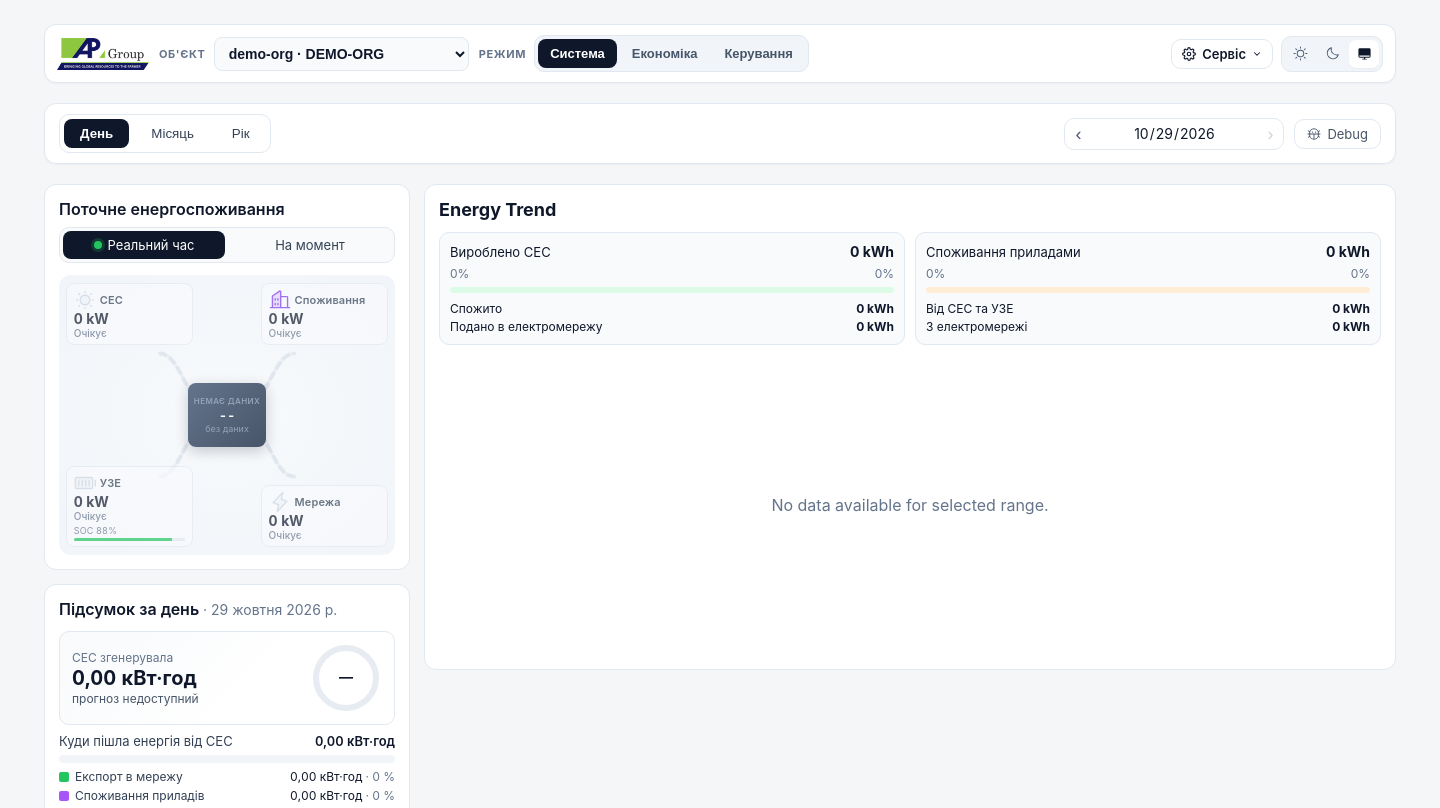
Test case: Dashboard › swaps the day chart for the energy trend lines on month and year
Check: the text "Енерготренд за місяць" is not shown
What coordinates should you click on to do the following:
click the button "Місяць"
I would click on:
 (173, 134)
Its box is [135,119,210,148].
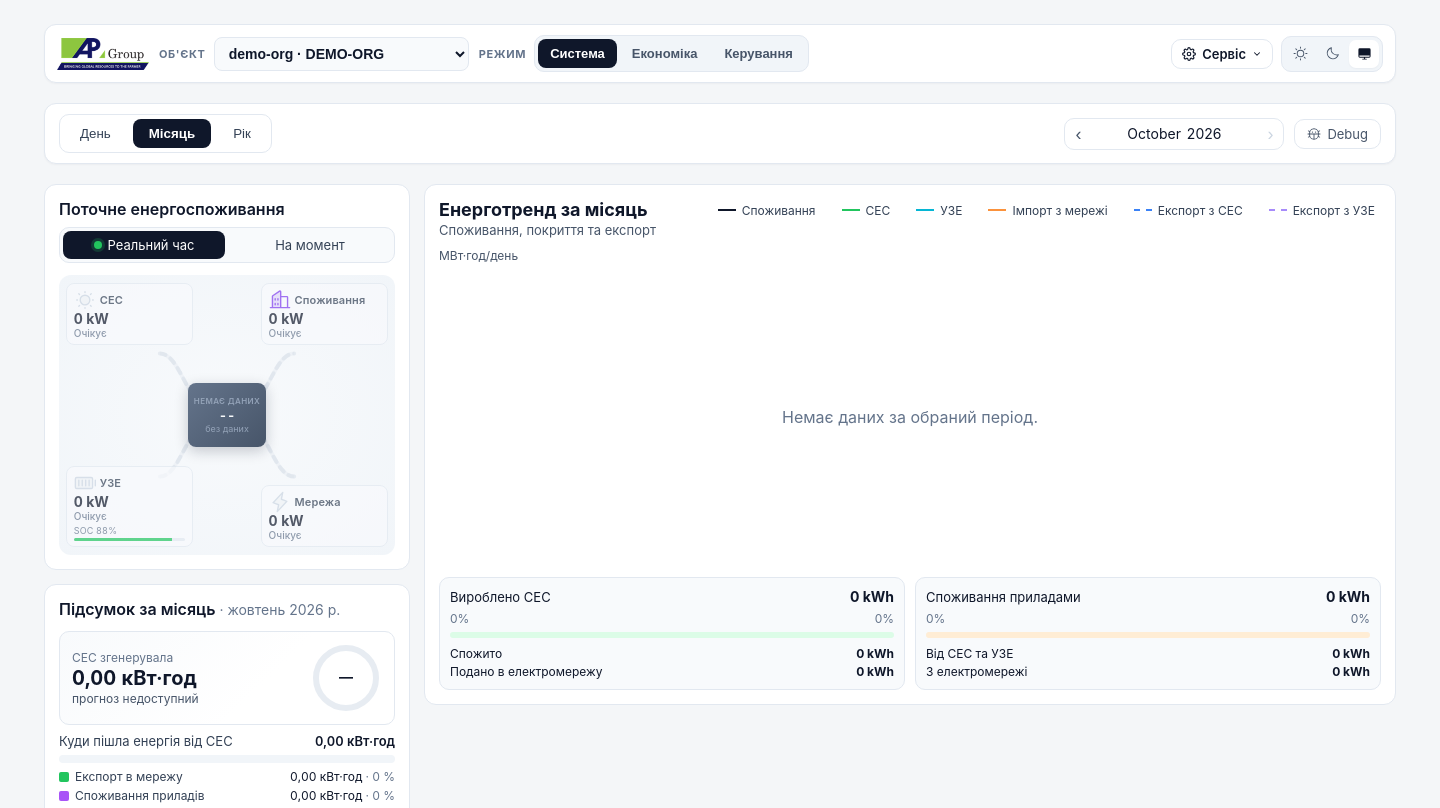
Check: the heading "Енерготренд за місяць" is shown, box [439,199,656,220]
Check: the text "МВт·год/день" is shown, box [439,248,518,263]
What coordinates should you click on to do the following:
click the button "Рік"
I would click on:
 (242, 134)
Its box is [217,119,267,148].
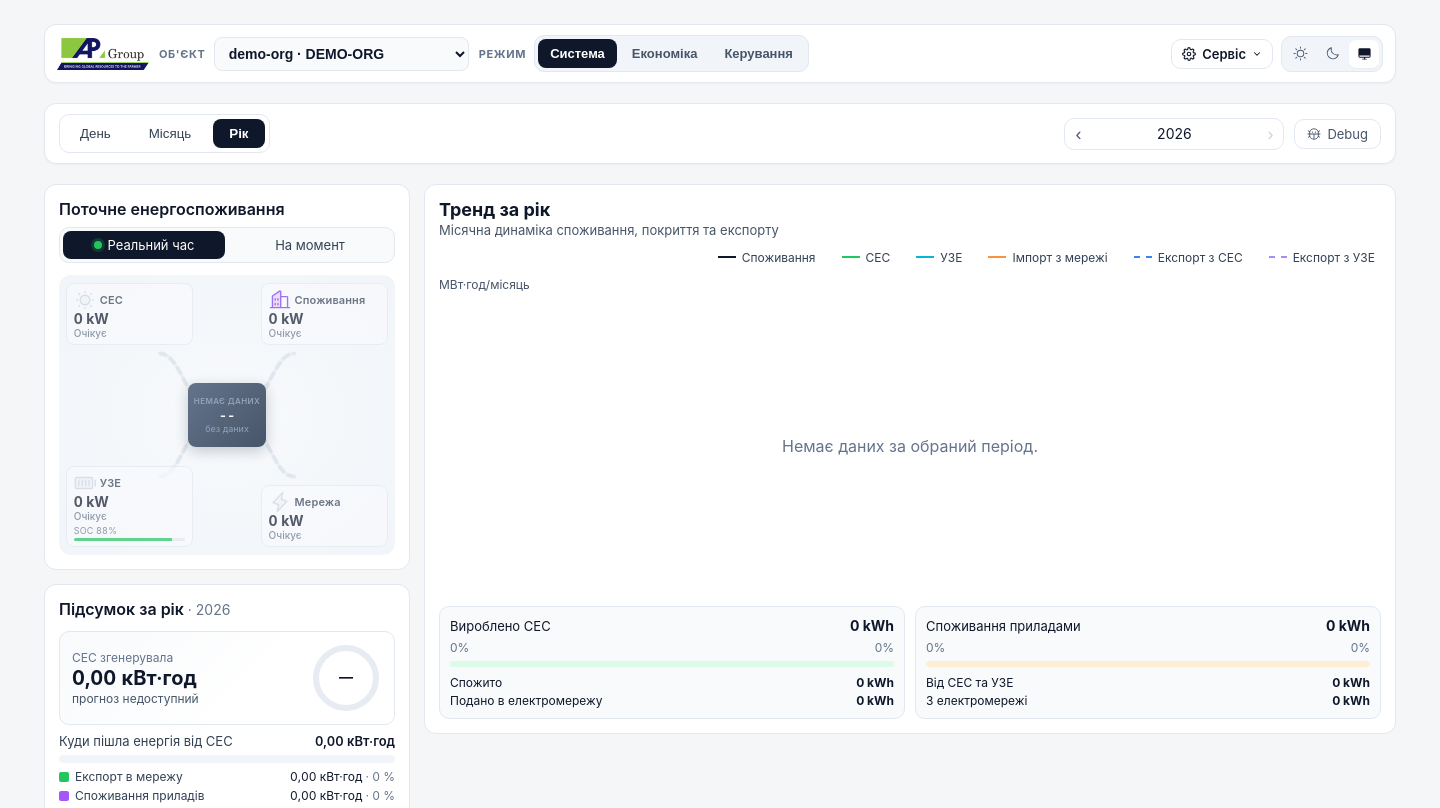
Check: the heading "Тренд за рік" is shown, box [439,199,550,220]
Check: the text "МВт·год/місяць" is shown, box [439,276,530,292]
